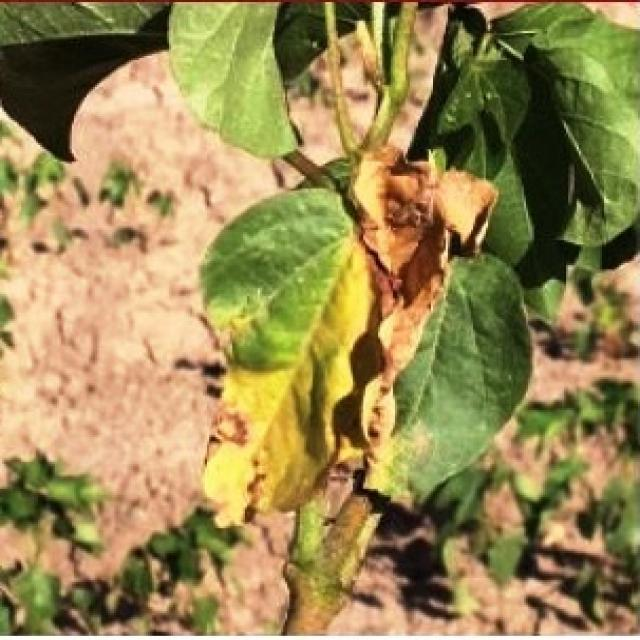Fusarium Wilt: (146, 7, 554, 640)
